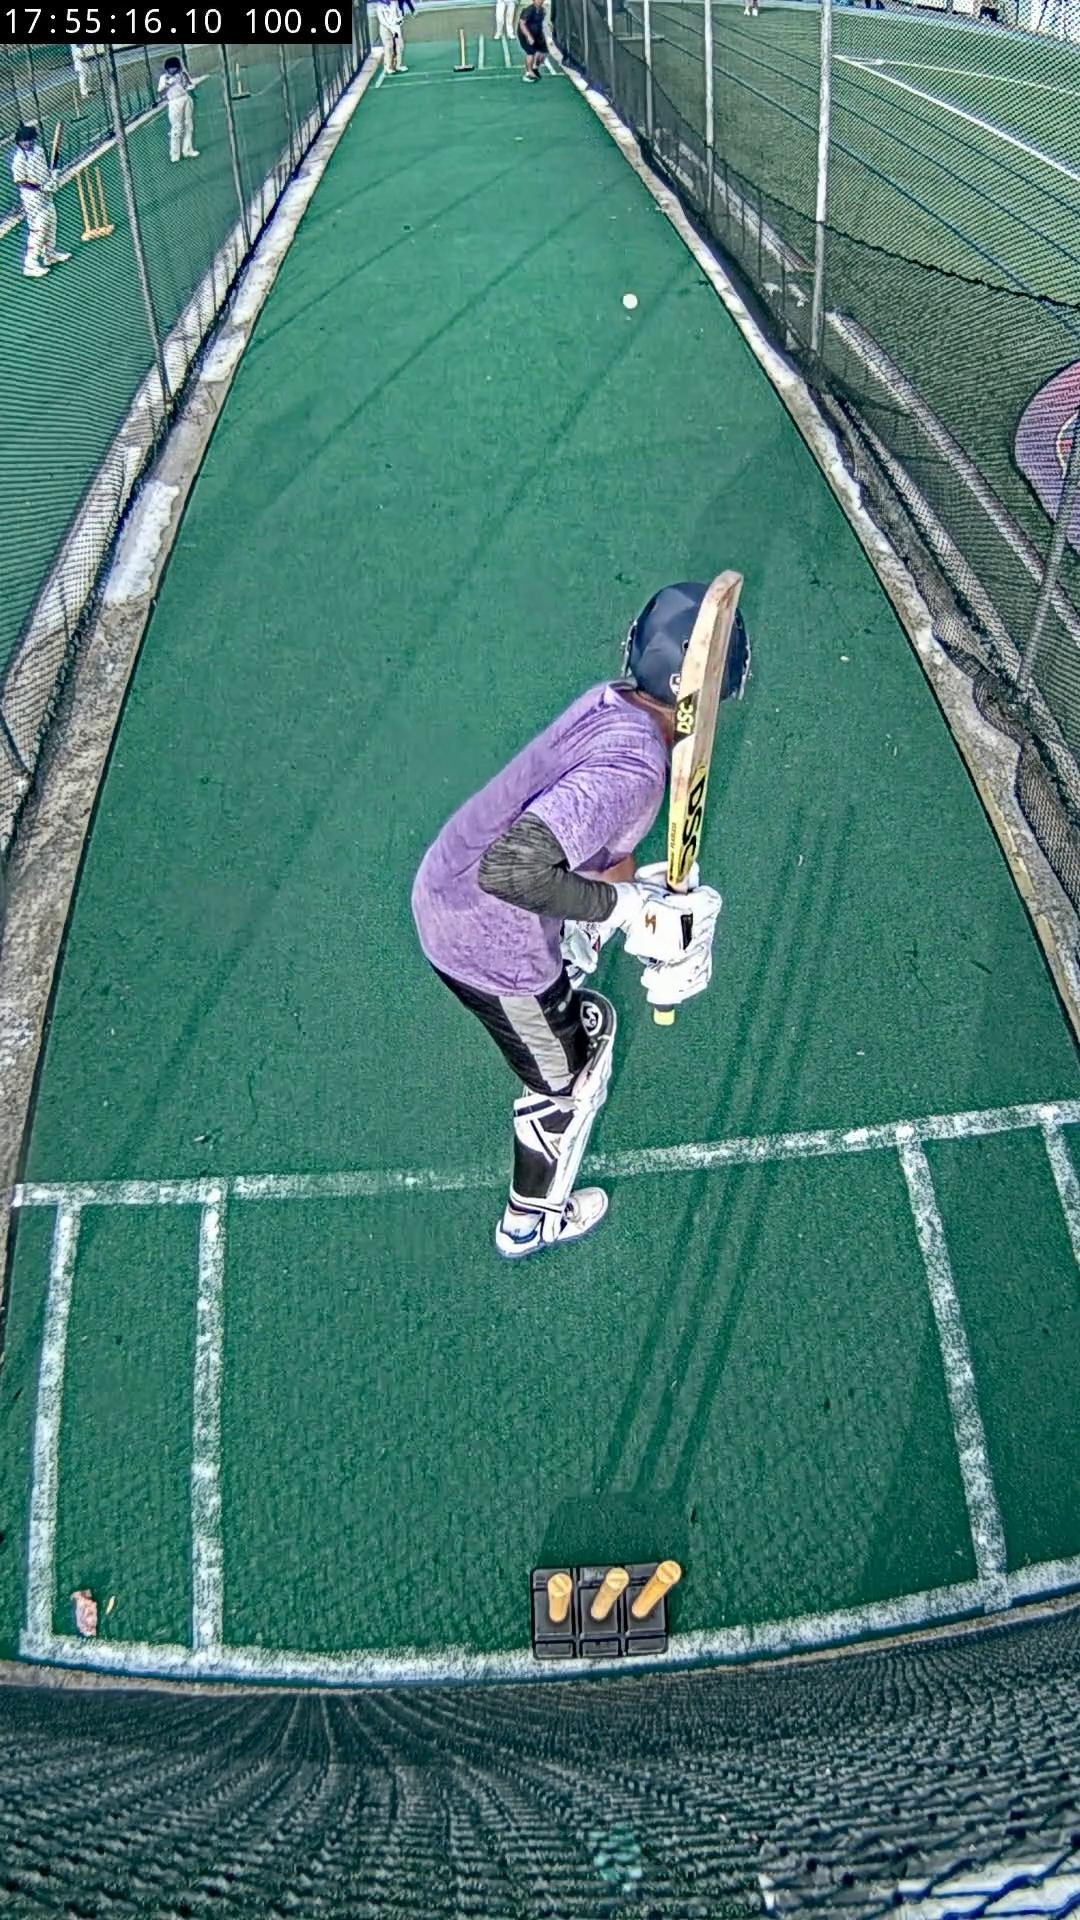ball: (622, 293, 637, 311)
bat: (667, 570, 742, 893)
gloves: (608, 862, 720, 968), (653, 975, 705, 1005)
helmet: (622, 582, 708, 705), (724, 615, 750, 696)
pads: (550, 996, 616, 1226)
stumps: (533, 1560, 683, 1662)
